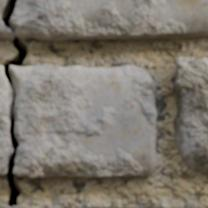brick: (174, 58, 207, 174)
broken_brick: (12, 63, 157, 178), (11, 0, 207, 41), (0, 64, 10, 176), (12, 204, 167, 207), (0, 22, 13, 41), (0, 0, 4, 9), (0, 203, 7, 207), (169, 206, 189, 207)
crack: (0, 0, 29, 207)
